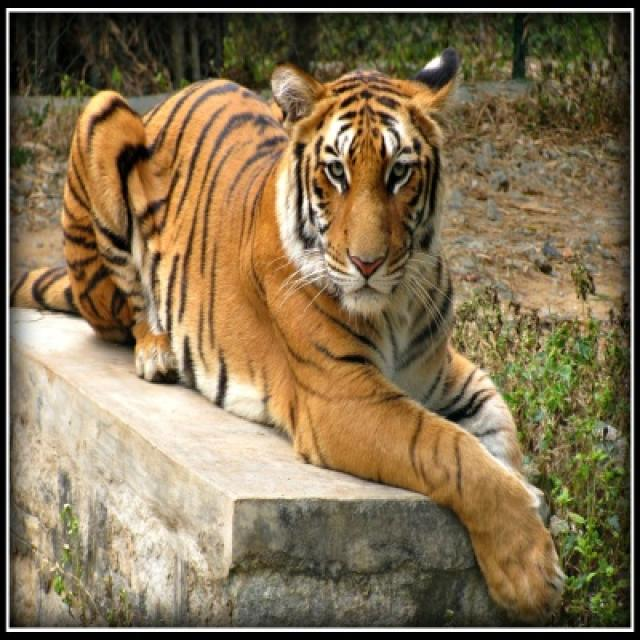Tiger: (12, 51, 564, 605)
